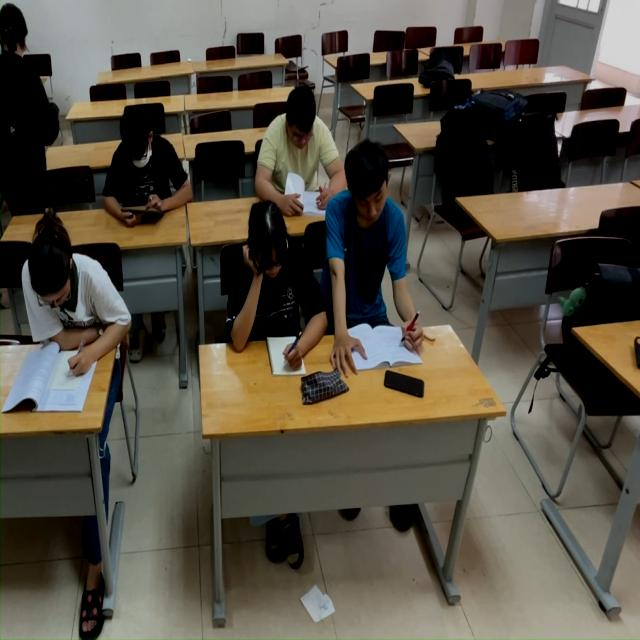read: (1, 215, 135, 427), (321, 143, 430, 392), (224, 197, 331, 383), (100, 102, 198, 233), (254, 81, 343, 212)
